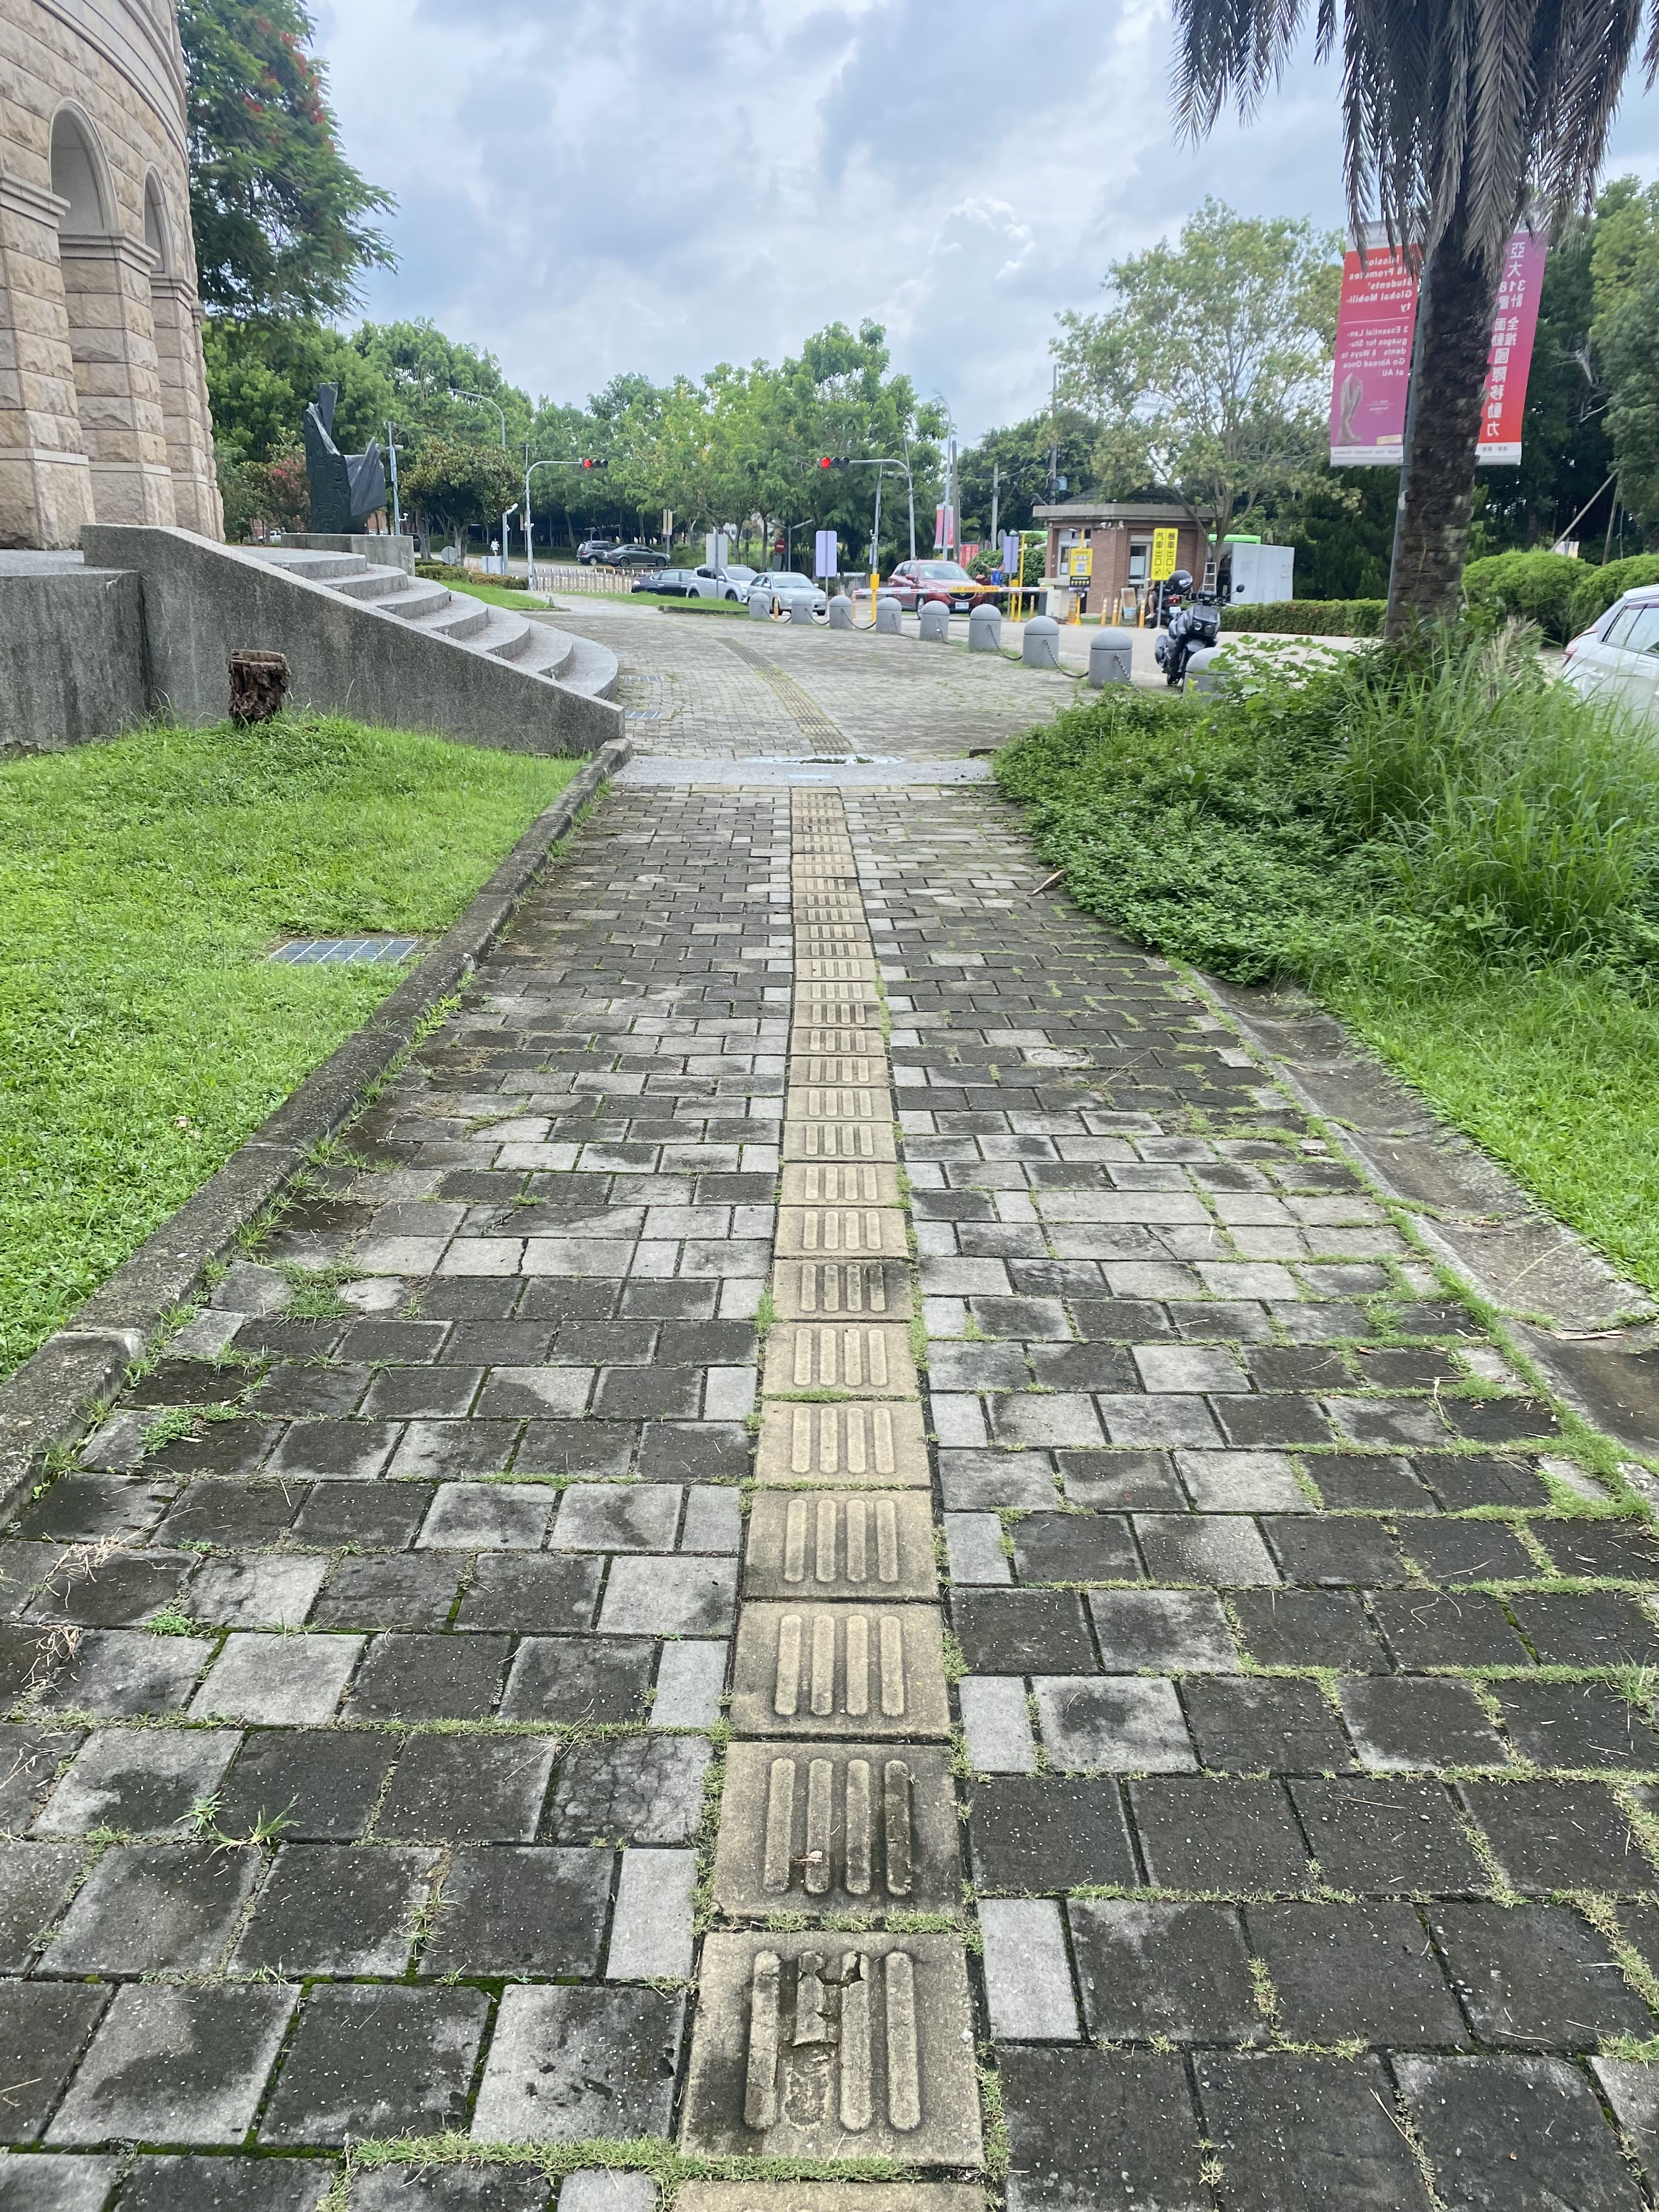0: (3, 887, 1659, 2212)
sidewalk: (538, 578, 1168, 1103)
